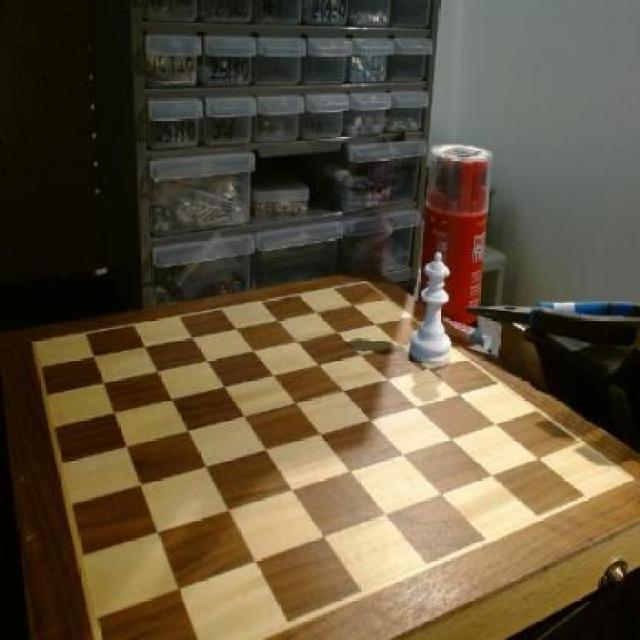white-pawn: (411, 252, 454, 367)
